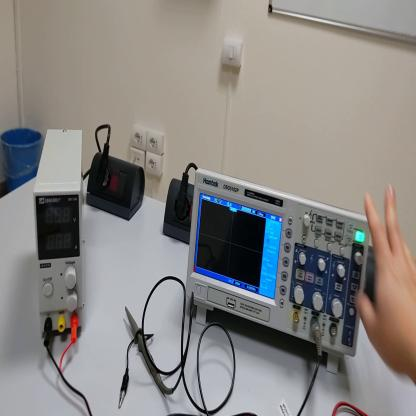hand: (359, 185, 416, 383)
oscilloscope: (186, 165, 372, 378)
oscilloscope probe tip: (126, 307, 174, 396)
power supply: (34, 127, 85, 344)
socket: (87, 155, 148, 222), (162, 174, 195, 247)
